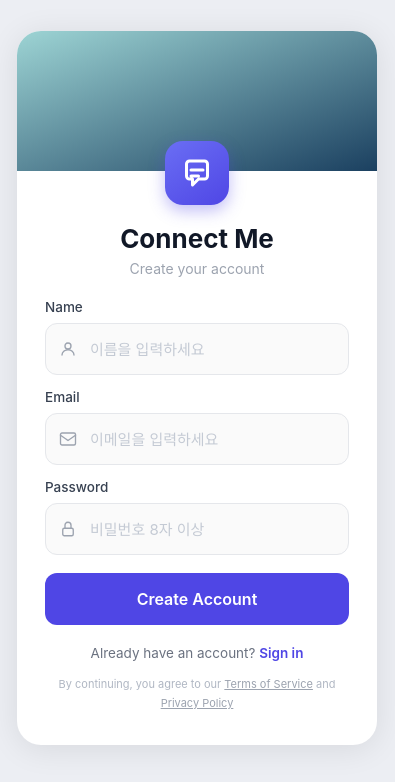
RegisterPage › 서버 오류 시 에러 메시지를 표시한다
Type "홍길동" into the field with placeholder "이름을 입력하세요" at [197, 349], box x1=45 y1=323 x2=349 y2=375
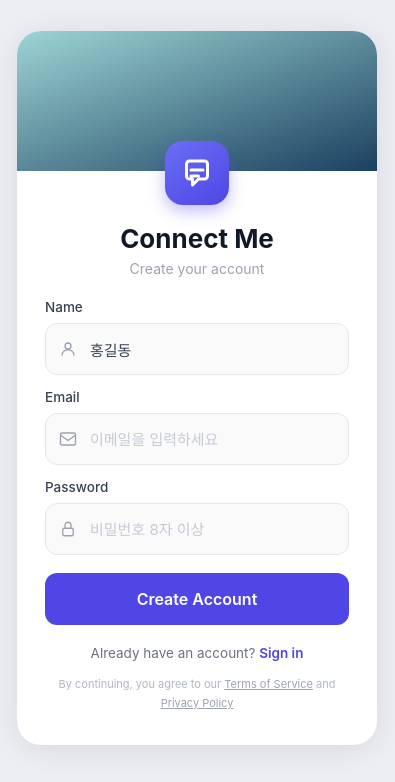
Type "dup@email.com" into the field with placeholder "이메일을 입력하세요" at [197, 439], box x1=45 y1=413 x2=349 y2=465
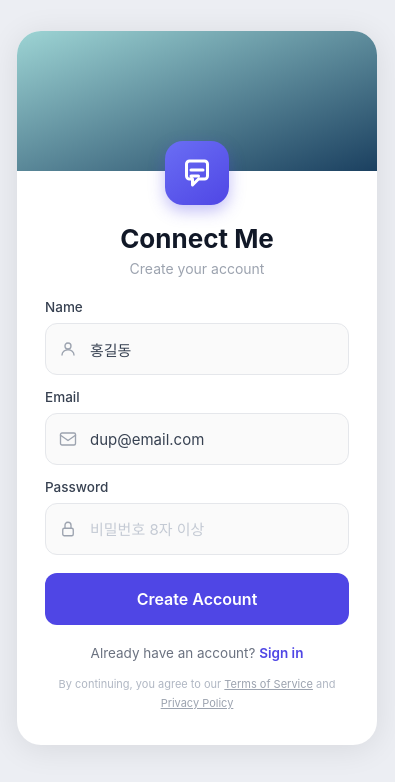
Type "password123" into the password field with placeholder "비밀번호 8자 이상" at [197, 529], box x1=45 y1=503 x2=349 y2=555
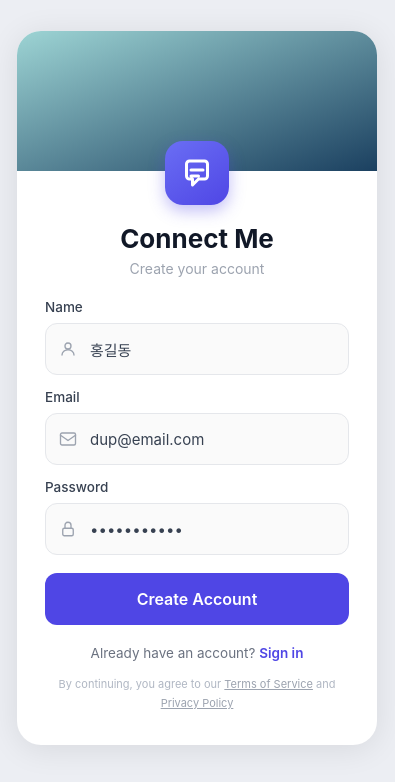
Click the button "Create Account" at [197, 599], box x1=45 y1=573 x2=349 y2=625
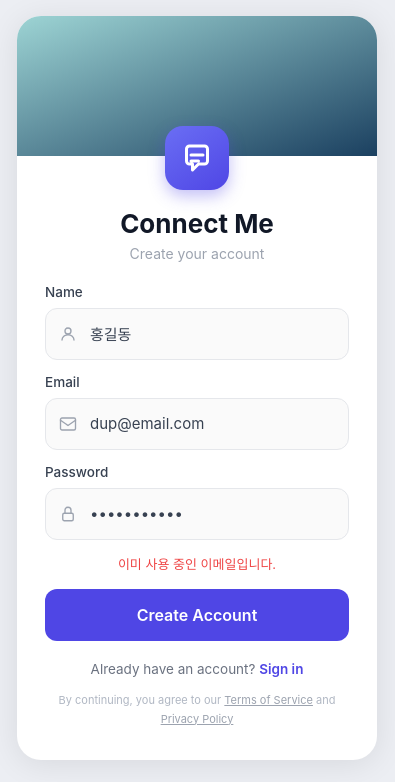
Now the text "이미 사용 중인 이메일입니다." is shown, box x1=118 y1=556 x2=276 y2=572
